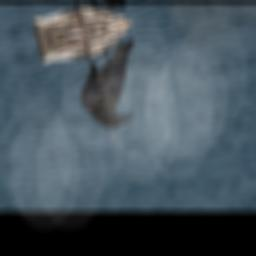Crow: (69, 37, 153, 134)
